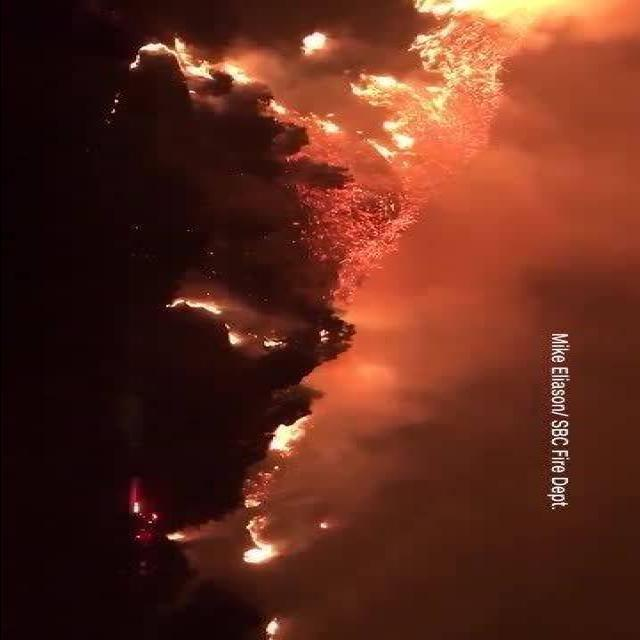Fire: (132, 0, 552, 266), (236, 421, 346, 637)
